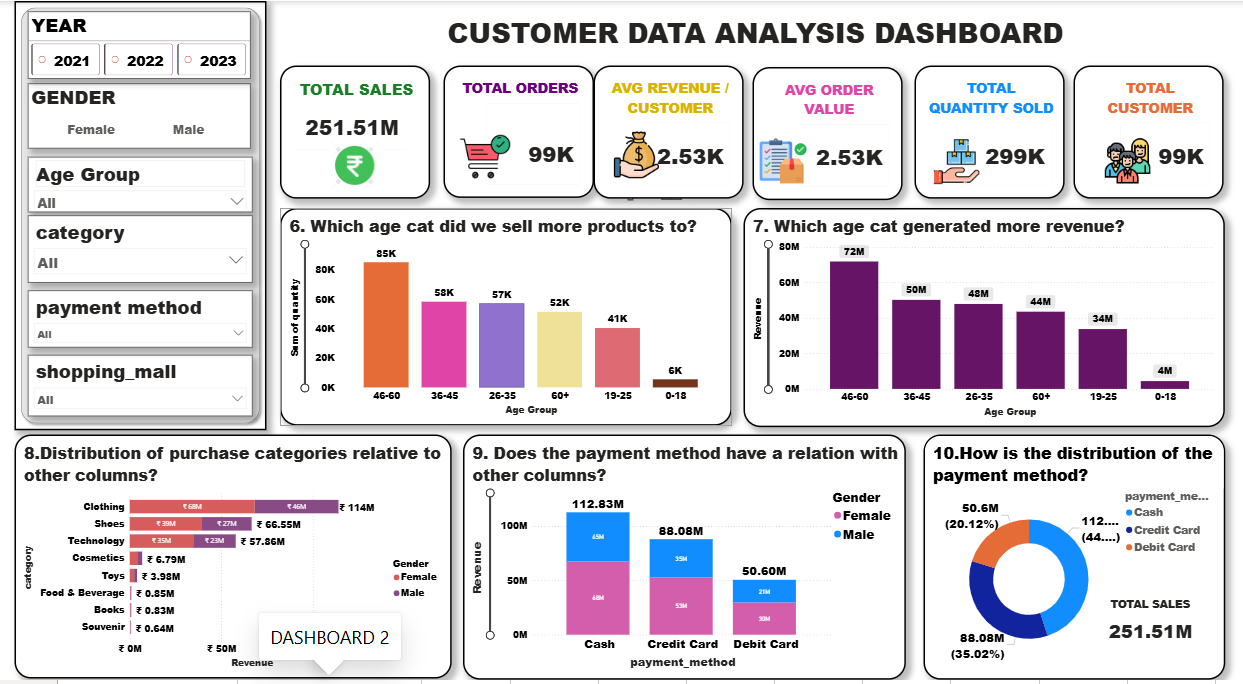

What the dashboard file says about the page in this screenshot:
{"tool":"powerbi","page":{"name":"DASHBOARD 2","canvas":[2200,1200],"ordinal":1},"visuals":[{"type":"shape","box":[27.8,0,445.6,758.9],"z":0},{"type":"textbox","box":[498.1,16.2,1681.2,92],"z":1000},{"type":"clusteredColumnChart","title":"   6.   Which age cat did we sell more products to?","fields":{"Category":["project_customer_segmentation customer.Age Group"],"Y":["Sum(project_customer_segmentation customer.quantity)"]},"box":[498.1,365.5,798.6,384.4],"z":2000},{"type":"clusteredColumnChart","title":"7.\tWhich age cat generated more revenue?","fields":{"Category":["project_customer_segmentation customer.Age Group"],"Y":["project_customer_segmentation customer.Revenue"]},"box":[1317.6,365.8,851,387],"z":3000},{"type":"barChart","title":"8.Distribution of purchase categories relative to other columns?","fields":{"Category":["project_customer_segmentation customer.category"],"Y":["project_customer_segmentation customer.Revenue"],"Series":["project_customer_segmentation customer.gender"]},"box":[27.8,765.8,772.8,431.6],"z":4000},{"type":"columnChart","title":"9.\tDoes the payment method have a relation with other columns?","fields":{"Category":["project_customer_segmentation customer.payment_method"],"Y":["project_customer_segmentation customer.Revenue"],"Series":["project_customer_segmentation customer.gender"]},"box":[823,766.1,782.4,433.1],"z":5000},{"type":"donutChart","title":"10.How is the distribution of the payment method?","fields":{"Category":["project_customer_segmentation customer.payment_method"],"Y":["project_customer_segmentation customer.Revenue"]},"box":[1635.1,766.1,533.3,433.1],"z":6000},{"type":"card","title":"TOTAL SALES","fields":{"Values":["project_customer_segmentation customer.Total Sales"]},"box":[1946.5,1053.1,181.4,94.8],"z":7000},{"type":"slicer","title":"GENDER","fields":{"Values":["project_customer_segmentation customer.gender"]},"box":[52.2,146.2,393.4,114.9],"z":8000},{"type":"slicer","fields":{"Values":["project_customer_segmentation customer.Age Group"]},"box":[52.2,275,396.8,97.5],"z":9000},{"type":"slicer","fields":{"Values":["project_customer_segmentation customer.category"]},"box":[52.2,379.4,396.8,118.4],"z":10000},{"type":"slicer","fields":{"Values":["project_customer_segmentation customer.shopping_mall"]},"box":[52.2,626.6,396.8,107.9],"z":11000},{"type":"slicer","fields":{"Values":["project_customer_segmentation customer.payment_method"]},"box":[52.2,511.7,396.8,100.9],"z":12000},{"type":"advancedSlicerVisual","title":"YEAR","fields":{"Values":["project_customer_segmentation customer.Year"]},"box":[52.2,17.4,393.4,118.4],"z":13000},{"type":"cardVisual","title":"TOTAL ORDERS","fields":{"Data":["project_customer_segmentation customer.Total Orders"]},"box":[788.6,114.3,265.7,234.3],"z":14000},{"type":"cardVisual","title":"AVG ORDER VALUE","fields":{"Data":["project_customer_segmentation customer.Avg Order Value"]},"box":[1334.6,116.4,265.3,235.5],"z":15000},{"type":"cardVisual","title":"AVG REVENUE / CUSTOMER","fields":{"Data":["project_customer_segmentation customer.Avg Revenue Per Customer"]},"box":[1053.1,113.7,265.3,235.5],"z":16000},{"type":"cardVisual","title":"TOTAL QUANTITY SOLD","fields":{"Data":["project_customer_segmentation customer.Total Quantity Sold"]},"box":[1618.9,113.7,265.3,235.5],"z":17000},{"type":"cardVisual","title":"TOTAL CUSTOMER","fields":{"Data":["project_customer_segmentation customer.Total Customers"]},"box":[1900.4,113.7,265.3,235.5],"z":18000},{"type":"cardVisual","title":"TOTAL SALES","fields":{"Data":["project_customer_segmentation customer.Total Sales"]},"box":[498.1,113.7,265.3,235.5],"z":19000},{"type":"image","box":[545.7,248.6,168.6,82.9],"z":20000},{"type":"image","box":[797.1,231.4,125.7,88.6],"z":21000},{"type":"image","box":[1071.4,231.4,114.3,82.9],"z":22000},{"type":"image","box":[1340,240,97.1,82.9],"z":23000},{"type":"image","box":[1634.3,240,122.9,82.9],"z":24000},{"type":"image","box":[1922.9,240,148.6,82.9],"z":25000}]}

Visuals, with their boxes in screenshot pixels (x1, y1, x2, y2), scaled from the page's 2200x1200 canvas onto the 1243x684 screenshot:
shape: {"left": 16, "top": 0, "right": 267, "bottom": 433}
textbox: {"left": 281, "top": 9, "right": 1231, "bottom": 62}
"   6.   Which age cat did we sell more products to?" clusteredColumnChart: {"left": 281, "top": 208, "right": 733, "bottom": 427}
"7.	Which age cat generated more revenue?" clusteredColumnChart: {"left": 744, "top": 209, "right": 1225, "bottom": 429}
"8.Distribution of purchase categories relative to other columns?" barChart: {"left": 16, "top": 437, "right": 452, "bottom": 683}
"9.	Does the payment method have a relation with other columns?" columnChart: {"left": 465, "top": 437, "right": 907, "bottom": 683}
"10.How is the distribution of the payment method?" donutChart: {"left": 924, "top": 437, "right": 1225, "bottom": 683}
"TOTAL SALES" card: {"left": 1100, "top": 600, "right": 1202, "bottom": 654}
"GENDER" slicer: {"left": 29, "top": 83, "right": 252, "bottom": 149}
slicer - project_customer_segmentation customer.Age Group: {"left": 29, "top": 157, "right": 254, "bottom": 212}
slicer - project_customer_segmentation customer.category: {"left": 29, "top": 216, "right": 254, "bottom": 284}
slicer - project_customer_segmentation customer.shopping_mall: {"left": 29, "top": 357, "right": 254, "bottom": 419}
slicer - project_customer_segmentation customer.payment_method: {"left": 29, "top": 292, "right": 254, "bottom": 349}
"YEAR" advancedSlicerVisual: {"left": 29, "top": 10, "right": 252, "bottom": 77}
"TOTAL ORDERS" cardVisual: {"left": 446, "top": 65, "right": 596, "bottom": 199}
"AVG ORDER VALUE" cardVisual: {"left": 754, "top": 66, "right": 904, "bottom": 201}
"AVG REVENUE / CUSTOMER" cardVisual: {"left": 595, "top": 65, "right": 745, "bottom": 199}
"TOTAL QUANTITY SOLD" cardVisual: {"left": 915, "top": 65, "right": 1065, "bottom": 199}
"TOTAL CUSTOMER" cardVisual: {"left": 1074, "top": 65, "right": 1224, "bottom": 199}
"TOTAL SALES" cardVisual: {"left": 281, "top": 65, "right": 431, "bottom": 199}
image: {"left": 308, "top": 142, "right": 404, "bottom": 189}
image: {"left": 450, "top": 132, "right": 521, "bottom": 182}
image: {"left": 605, "top": 132, "right": 670, "bottom": 179}
image: {"left": 757, "top": 137, "right": 812, "bottom": 184}
image: {"left": 923, "top": 137, "right": 993, "bottom": 184}
image: {"left": 1086, "top": 137, "right": 1170, "bottom": 184}
